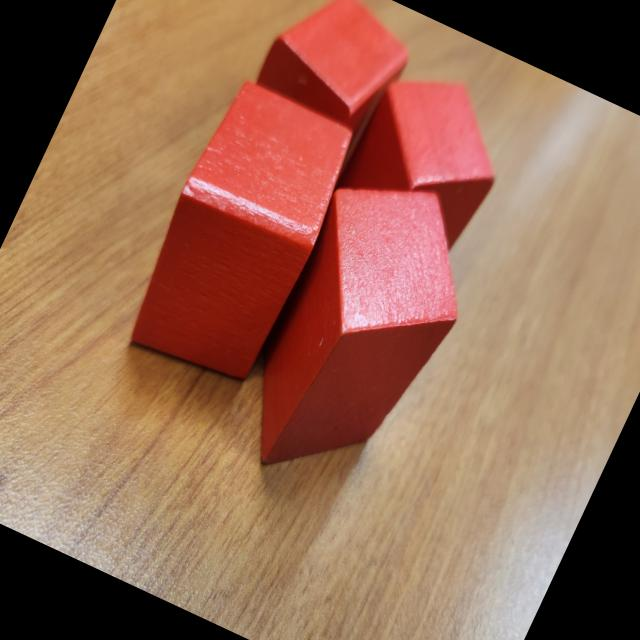red: (216, 152, 502, 515), (111, 70, 372, 402), (329, 50, 527, 258), (250, 0, 423, 140)
